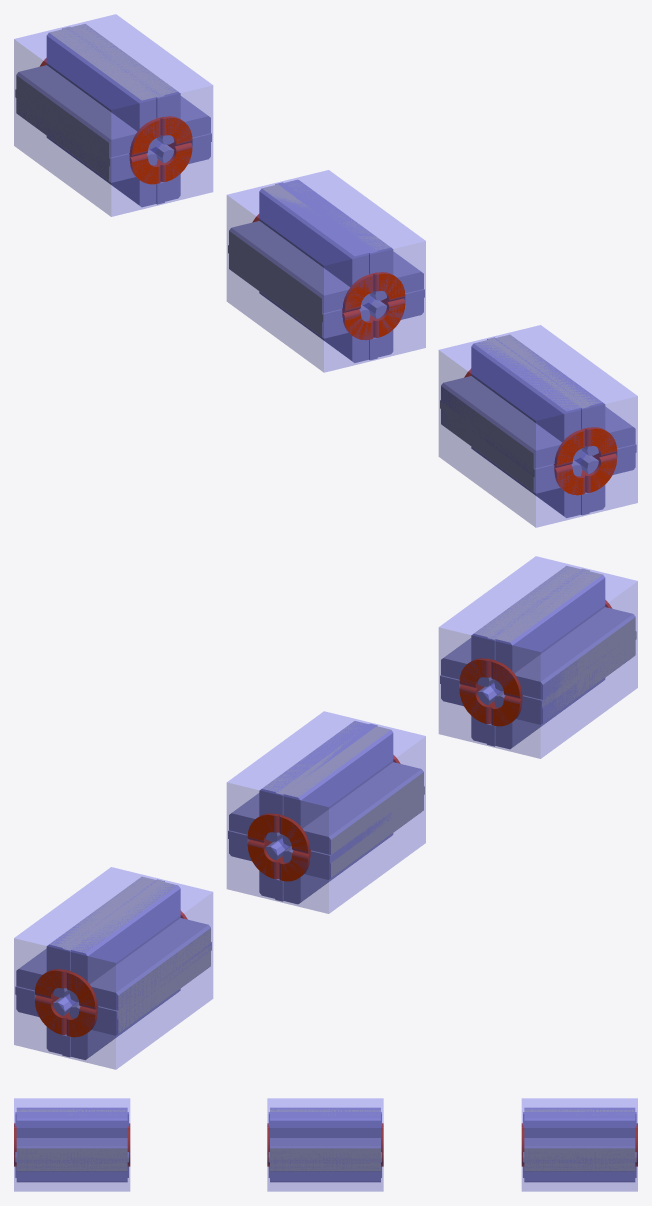
The model's file is QMagContainer.gltf.
3 views of the same model, one above another, from view 1: azimuth 30°, elevation 25°; view 2: azimuth 150°, elevation 25°; view 3: azimuth 270°, elevation 25° (orthographic). The views are drawn at different scales.
Parts seen in each view (by area): view 1: logicQMagContainer_pv0x22304f0 (×3), logicQMagCore_pv0x21fdc50 (×18); view 2: logicQMagContainer_pv0x22304f0 (×3), logicQMagCore_pv0x21fdc50 (×18); view 3: logicQMagContainer_pv0x22304f0 (×3), logicQMagCore_pv0x21fdc50 (×15), logicQMagBarH_pv0x21fdda0 (×8).
Boxes of the visible parts, x1,y1,x2,y2 form: logicQMagContainer_pv0x22304f0 (×3): (14,14,637,527); logicQMagCore_pv0x21fdc50 (×18): (16,23,635,517); logicQMagContainer_pv0x22304f0 (×3): (14,556,637,1069); logicQMagCore_pv0x21fdc50 (×18): (16,565,635,1059); logicQMagContainer_pv0x22304f0 (×3): (14,1098,637,1191); logicQMagCore_pv0x21fdc50 (×15): (16,1107,635,1182); logicQMagBarH_pv0x21fdda0 (×8): (15,1113,636,1162).
Size of the model in its own units: 61.77 by 61.77 by 547.
